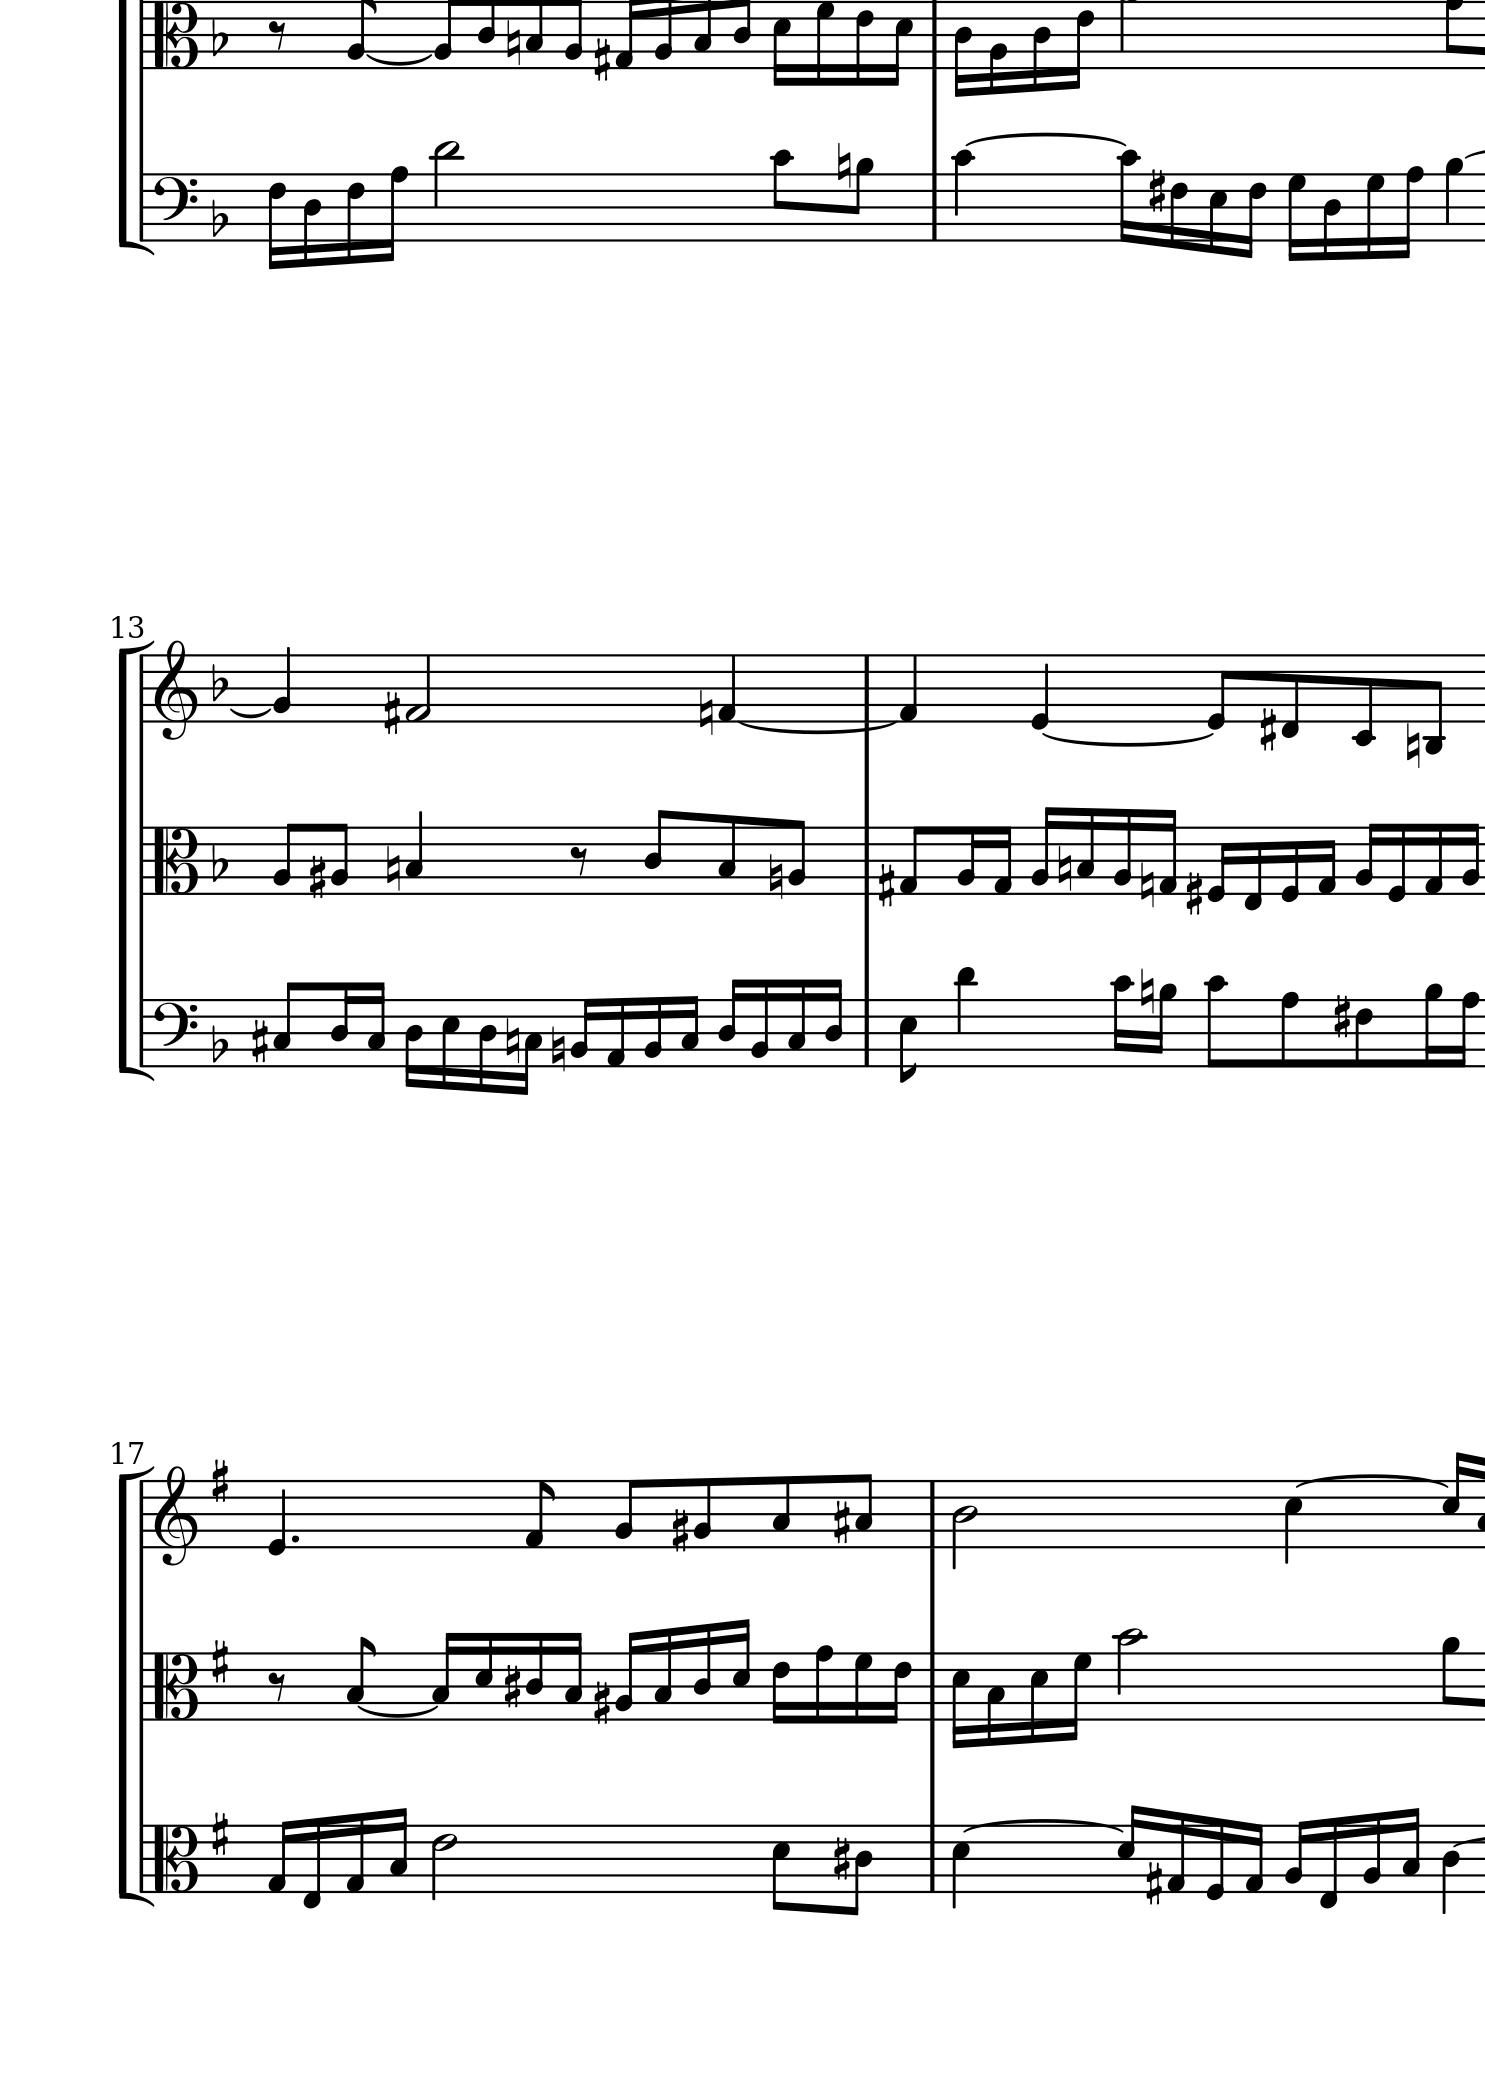1: (109, 1440, 124, 1469), (109, 614, 124, 641)
16_-1: (301, 1814, 323, 1910), (1316, 1817, 1339, 1910), (1241, 824, 1263, 913)
16_0: (1205, 824, 1233, 905), (1204, 1816, 1226, 1902), (1384, 819, 1406, 905), (1278, 824, 1299, 905)
16_1: (265, 1817, 294, 1896), (342, 1811, 365, 1894), (1156, 808, 1176, 897), (990, 824, 1012, 898), (1315, 824, 1337, 898), (604, 995, 627, 1068), (1242, 1820, 1263, 1898), (1422, 823, 1443, 898), (1167, 1811, 1184, 1896)
16_10: (1107, 974, 1133, 1070), (1115, 149, 1139, 247)
16_2: (612, 1629, 641, 1722), (1029, 805, 1054, 895), (1352, 821, 1381, 897), (747, 979, 770, 1068), (987, 2, 1008, 96), (1282, 1819, 1308, 1894), (567, 998, 595, 1068), (1360, 1811, 1382, 1894), (955, 824, 980, 897), (1111, 807, 1131, 895), (641, 995, 664, 1068)
16_3: (427, 1629, 456, 1722), (516, 999, 543, 1096), (649, 1626, 673, 1722), (984, 1652, 1006, 1748), (784, 977, 807, 1068), (363, 979, 386, 1068), (1398, 1806, 1421, 1894), (561, 1629, 582, 1722), (1074, 805, 1094, 897), (387, 1806, 408, 1894), (678, 995, 699, 1068)
16_4: (715, 977, 742, 1068), (691, 1621, 714, 1722), (328, 980, 354, 1068), (821, 975, 844, 1068), (1029, 2, 1051, 93), (301, 170, 321, 268), (476, 998, 497, 1096), (951, 2, 972, 98), (524, 1629, 545, 1722), (402, 998, 423, 1089), (1321, 172, 1340, 262)
16_5: (1438, 1449, 1467, 1550), (886, 2, 913, 88), (1115, 1803, 1141, 1894), (730, 1615, 751, 1722), (948, 1650, 971, 1750), (1027, 1649, 1048, 1745), (439, 998, 460, 1093), (770, 2, 792, 88), (472, 1629, 493, 1722), (1205, 170, 1226, 257)
16_6: (1064, 2, 1094, 92), (1237, 170, 1266, 259), (342, 170, 366, 267), (265, 170, 288, 272), (882, 1650, 911, 1726), (852, 2, 874, 88), (1167, 170, 1188, 251), (768, 1652, 791, 1726)
16_7: (1061, 1652, 1091, 1743), (1286, 170, 1307, 265), (813, 2, 836, 88), (1363, 170, 1384, 264), (852, 1650, 873, 1726)
16_8: (378, 165, 408, 264), (1393, 165, 1424, 260), (812, 1644, 834, 1726)
16_9: (1149, 983, 1176, 1068), (1422, 982, 1443, 1068)
2_1: (403, 652, 431, 723)
2_10: (1114, 1626, 1144, 1722)
2_11: (431, 141, 460, 244)
2_4: (948, 1480, 976, 1570)
2_6: (429, 1824, 456, 1901)
3: (125, 614, 145, 639)
4_0: (264, 1478, 288, 1559), (1029, 652, 1049, 731)
4_1: (897, 652, 918, 725), (717, 652, 736, 723)
4_10: (948, 149, 976, 243)
4_11: (951, 966, 977, 1070)
4_2: (272, 644, 292, 725)
4_3: (403, 810, 423, 897)
4_4: (1438, 1824, 1459, 1915)
4_5: (948, 1824, 972, 1910), (1281, 1480, 1303, 1567)
4_9: (1442, 156, 1462, 244)
7: (125, 1438, 145, 1465)
8_-1: (1279, 652, 1299, 737)
8_-2: (1348, 652, 1376, 749)
8_-3: (1422, 651, 1443, 757)
8_0: (1204, 652, 1233, 731)
8_1: (522, 1478, 556, 1550), (898, 824, 926, 897)
8_10: (768, 148, 794, 243), (1204, 974, 1226, 1072)
8_2: (612, 1477, 641, 1550), (346, 2, 376, 71), (270, 819, 297, 897), (784, 816, 807, 897), (328, 821, 349, 897), (693, 1477, 712, 1550)
8_3: (342, 1636, 374, 1722), (270, 980, 301, 1068), (715, 815, 738, 897), (768, 1475, 792, 1550), (853, 1473, 874, 1549)
8_4: (845, 1824, 873, 1918), (641, 808, 670, 897)
8_5: (768, 1822, 791, 1914), (897, 998, 918, 1083)
8_6: (1353, 998, 1372, 1070)
8_8: (1278, 990, 1299, 1070)
8_9: (845, 157, 874, 243), (1438, 1636, 1462, 1722)
Bracke: (114, 1464, 154, 1914), (116, 635, 153, 1086)
Cclef: (149, 1824, 199, 1894), (151, 1650, 199, 1721), (149, 2, 198, 71), (151, 824, 198, 895)
Fclef: (149, 996, 199, 1068), (151, 170, 198, 243)
Flat: (209, 1023, 228, 1064), (209, 665, 228, 704), (209, 199, 227, 239), (211, 19, 228, 56), (211, 847, 228, 884)
Gclef: (153, 638, 198, 741), (153, 1464, 198, 1567)
Natural: (503, 14, 521, 71), (765, 852, 784, 903), (501, 1011, 519, 1065), (694, 688, 714, 737), (382, 844, 402, 893), (1401, 720, 1421, 768), (1054, 844, 1072, 895), (834, 140, 852, 188), (548, 1023, 566, 1072), (1136, 966, 1154, 1014), (1136, 861, 1152, 908)
Rests8: (567, 844, 590, 877), (265, 1671, 288, 1703), (267, 19, 288, 51)
Sharp: (209, 1457, 231, 1507), (829, 1497, 852, 1547), (1146, 167, 1167, 215), (874, 861, 895, 909), (209, 1809, 230, 1857), (381, 689, 402, 736), (305, 855, 326, 901), (247, 1019, 268, 1065), (669, 1509, 689, 1555), (501, 1661, 521, 1711), (591, 1677, 611, 1727), (591, 35, 611, 84), (1257, 705, 1276, 754), (1331, 993, 1350, 1041), (209, 1637, 228, 1685), (831, 1835, 850, 1883), (1184, 869, 1202, 916), (1144, 1861, 1162, 1906)
Single_barline: (132, 2, 153, 71), (855, 999, 876, 1067), (926, 174, 945, 243), (922, 1653, 942, 1722), (855, 827, 874, 895), (133, 999, 153, 1067), (133, 1481, 153, 1549), (922, 1825, 942, 1893), (922, 1481, 942, 1547), (857, 656, 874, 726), (926, 2, 943, 71), (133, 827, 151, 897), (133, 1653, 151, 1722), (133, 656, 151, 723), (133, 175, 151, 241), (133, 1825, 149, 1894)
Slur: (734, 720, 900, 736), (1295, 1472, 1443, 1489), (958, 1817, 1120, 1833), (1045, 733, 1213, 746), (964, 133, 1123, 146), (350, 1703, 439, 1718), (366, 50, 432, 67), (227, 705, 273, 718)
dot: (288, 1531, 301, 1546)
